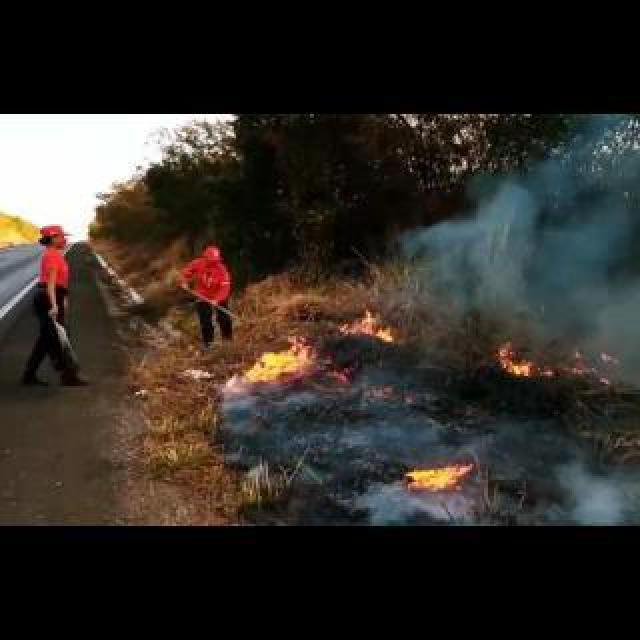Fire: (248, 336, 310, 380), (408, 462, 476, 488), (356, 314, 392, 344), (496, 346, 532, 374)
Smoke: (403, 142, 640, 326), (336, 414, 550, 460), (548, 451, 640, 524), (220, 382, 328, 436), (348, 484, 474, 526), (352, 362, 436, 414)
